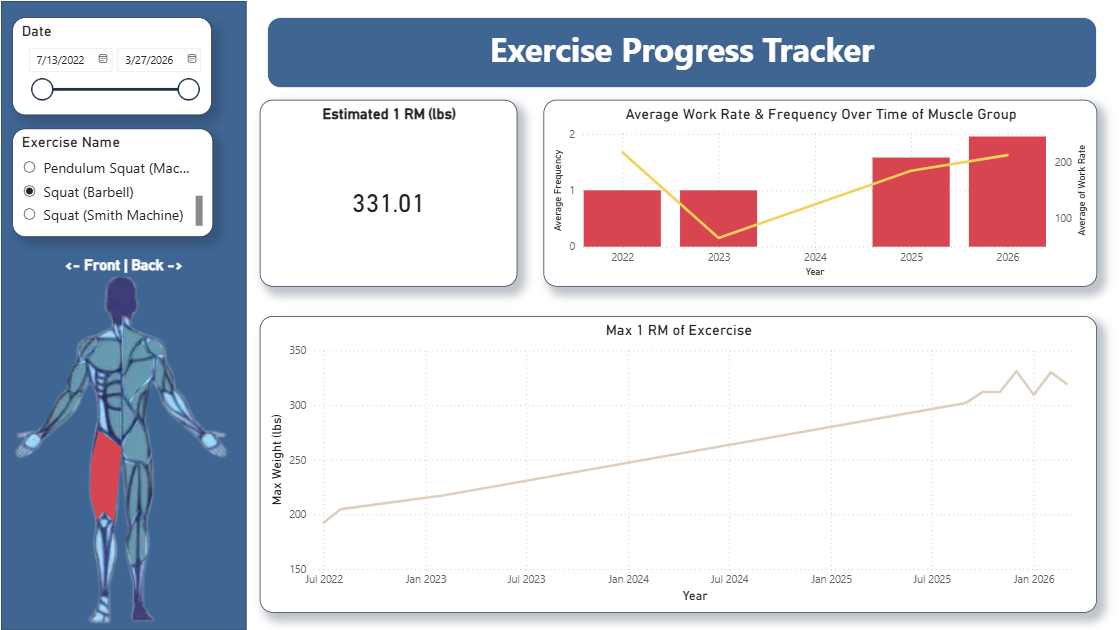

What the dashboard file says about the page in this screenshot:
{"tool":"powerbi","page":{"name":"Page 1","canvas":[1280,720],"ordinal":0},"visuals":[{"type":"shape","box":[0,0,280.6,719.4],"z":0},{"type":"lineChart","title":"Max 1 RM of Excercise","fields":{"Series":["clean1.exercise_name"],"Category":["clean1.date.Variation.Date Hierarchy.Year","clean1.date.Variation.Date Hierarchy.Month"],"Y":["Max(clean1.max_1RM)"]},"box":[295.5,359.7,956.7,338.8],"z":1000},{"type":"synopticPanelByOKVIZC365478550CD4DC0A2ED985DC3E23EED","title":"<- Front | Back ->","fields":{"category_role":["Human Anatomy (2).Muscle Name"],"legend_role":["clean1.muscle_group"]},"box":[0,291,280.6,428.4],"z":2000},{"type":"slicer","title":"Date","fields":{"Values":["clean1.date"]},"box":[13.4,17.9,228.4,111.9],"z":3000},{"type":"listSlicer","title":"Exercise Name","fields":{"Values":["clean1.exercise_name"]},"box":[13.4,146.3,229.9,123.9],"z":4000},{"type":"lineClusteredColumnComboChart","title":"Average Work Rate & Frequency Over Time of Muscle Group","fields":{"Y":["Avg(clean1.frequency)"],"Y2":["Avg(clean1.work_rate)"],"Series":["clean1.muscle_group"],"Category":["clean1.date.Variation.Date Hierarchy.Year"]},"box":[619.4,113.4,632.8,213.4],"z":5000},{"type":"card","title":"Estimated 1 RM (lbs)","fields":{"Values":["Max(clean1.max_1RM)"]},"box":[295.5,113.4,294,213.4],"z":6000},{"type":"textbox","box":[304.5,17.9,947.8,80.6],"z":6001}]}

Visuals, with their boxes in screenshot pixels (x1, y1, x2, y2), scaled from the page's 1280x720 canvas onto the 1119x630 screenshot:
shape: (0, 0, 245, 629)
"Max 1 RM of Excercise" lineChart: (258, 315, 1095, 611)
"<- Front | Back ->" synopticPanelByOKVIZC365478550CD4DC0A2ED985DC3E23EED: (0, 255, 245, 629)
"Date" slicer: (12, 16, 211, 114)
"Exercise Name" listSlicer: (12, 128, 213, 236)
"Average Work Rate & Frequency Over Time of Muscle Group" lineClusteredColumnComboChart: (541, 99, 1095, 286)
"Estimated 1 RM (lbs)" card: (258, 99, 515, 286)
textbox: (266, 16, 1095, 86)
